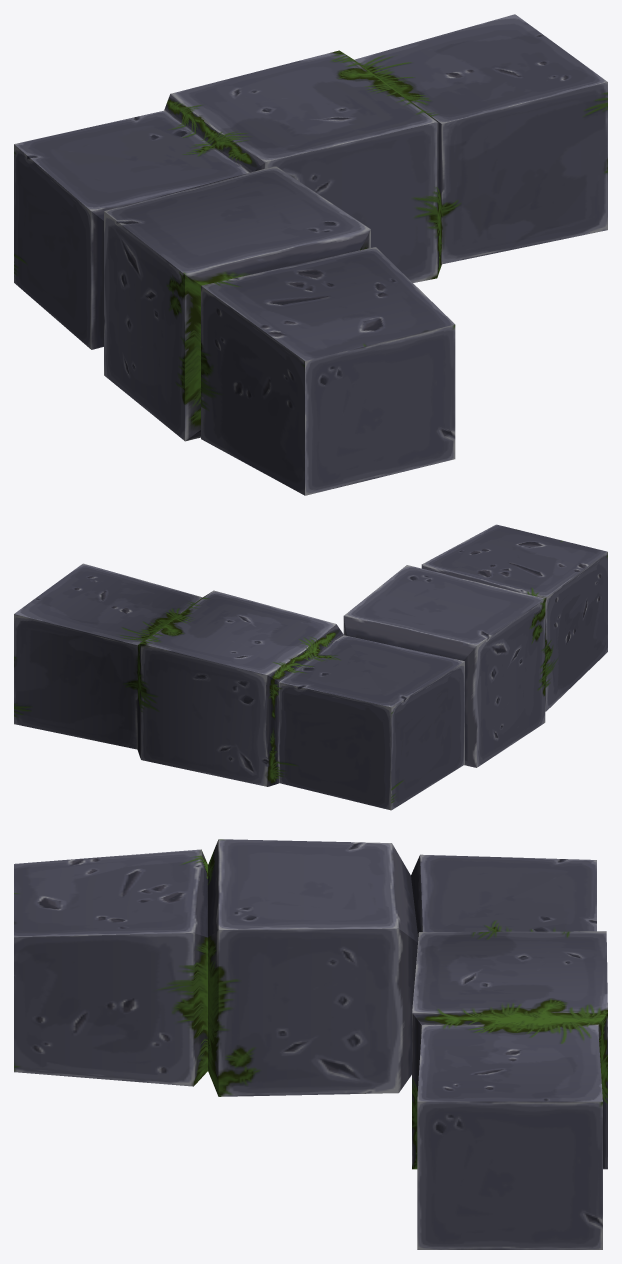
The model's file is MOD_WallCover_01_M_corner_2.fbx.
3 views of the same model, one above another, from view 1: azimuth 30°, elevation 25°; view 2: azimuth 150°, elevation 25°; view 3: azimuth 270°, elevation 25° (orthographic). The views are drawn at different scales.
Parts seen in each view (by area): view 1: MOD_WallCover_01_M_corner_2; view 2: MOD_WallCover_01_M_corner_2; view 3: MOD_WallCover_01_M_corner_2.
Boxes of the visible parts, bbox=[...] form: MOD_WallCover_01_M_corner_2: bbox=[14, 14, 607, 495]; MOD_WallCover_01_M_corner_2: bbox=[14, 524, 607, 810]; MOD_WallCover_01_M_corner_2: bbox=[14, 839, 607, 1249].
Bounding box in the file's own units: 243 × 74.25 × 239.
